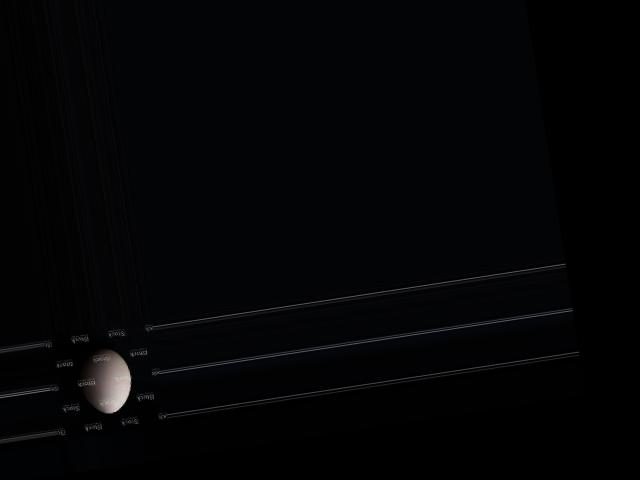egg: (75, 344, 135, 417)
